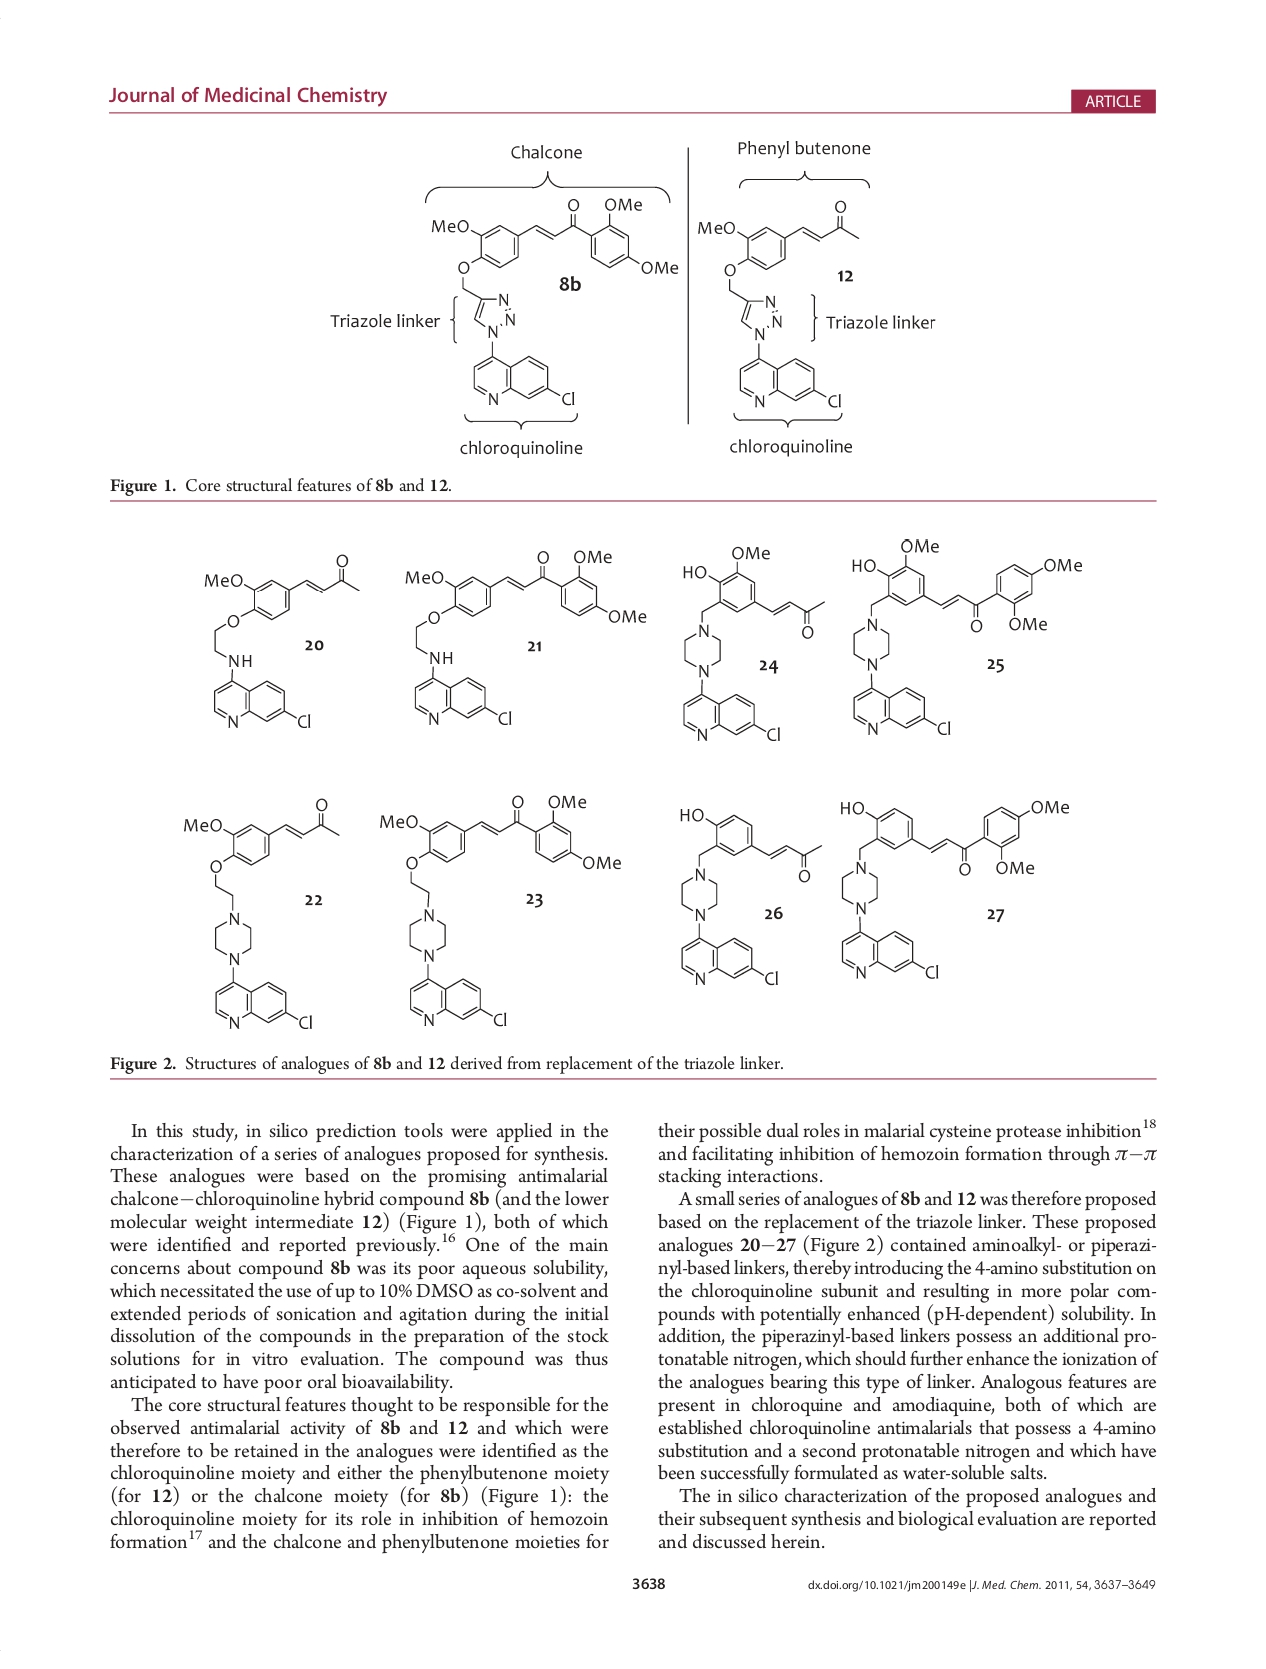exist_molecular: (376, 793, 622, 1028), (426, 194, 678, 412), (848, 533, 1084, 742), (835, 794, 1071, 985), (400, 548, 648, 730), (180, 793, 343, 1035), (694, 197, 871, 414), (680, 543, 830, 743), (199, 551, 366, 731), (676, 801, 824, 991)
